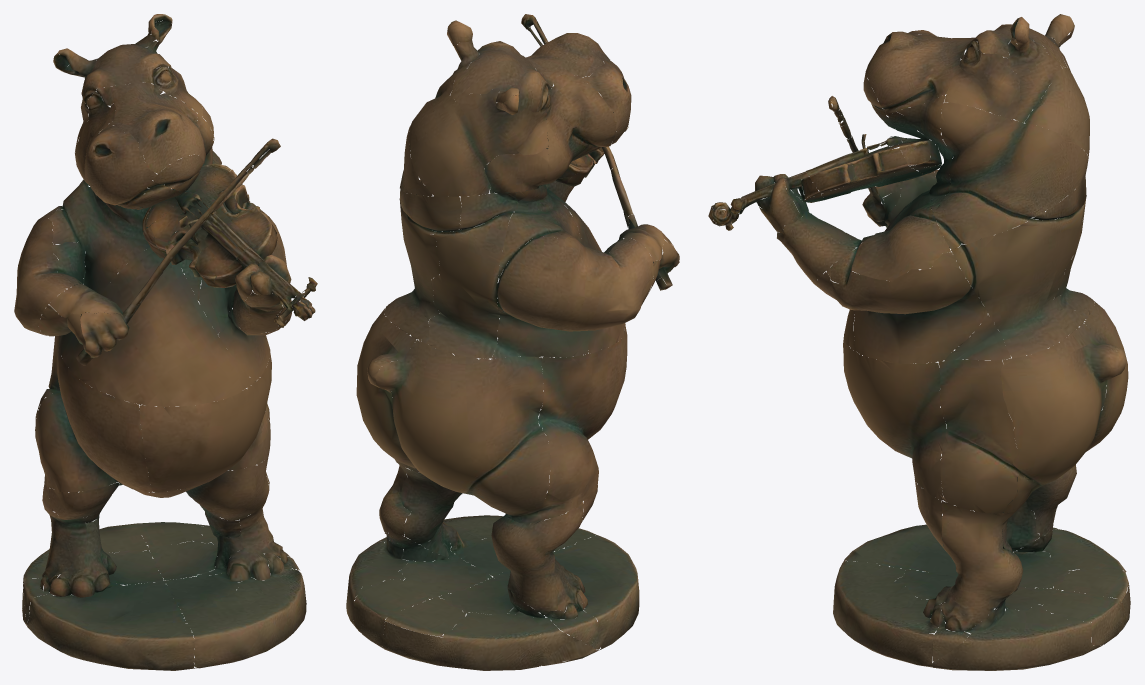
File: h_clock_hippo.glb
3 views of the same model, side by side, from view 1: azimuth 30°, elevation 25°; view 2: azimuth 150°, elevation 25°; view 3: azimuth 270°, elevation 25° (orthographic). The views are drawn at different scales.
Visible parts, largest first — view 1: tripo_node_803f888b-3f07-4e1a-a965-ed7d0f24320c; view 2: tripo_node_803f888b-3f07-4e1a-a965-ed7d0f24320c; view 3: tripo_node_803f888b-3f07-4e1a-a965-ed7d0f24320c.
Part boxes in pixels (x1=…): tripo_node_803f888b-3f07-4e1a-a965-ed7d0f24320c: x1=14, y1=14, x2=317, y2=670; tripo_node_803f888b-3f07-4e1a-a965-ed7d0f24320c: x1=346, y1=14, x2=679, y2=670; tripo_node_803f888b-3f07-4e1a-a965-ed7d0f24320c: x1=708, y1=14, x2=1130, y2=670.
Bounding box in the file's own units: 0.4851 × 0.9996 × 0.6355.
1 material, 1 textured.
